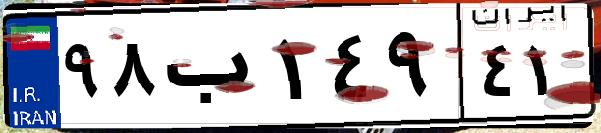1: (270, 28, 330, 110), (525, 38, 570, 115)
4: (330, 28, 385, 110), (475, 38, 525, 113)
8: (110, 28, 158, 98)
9: (385, 28, 445, 110), (57, 26, 110, 100)
ب: (158, 20, 270, 120)
